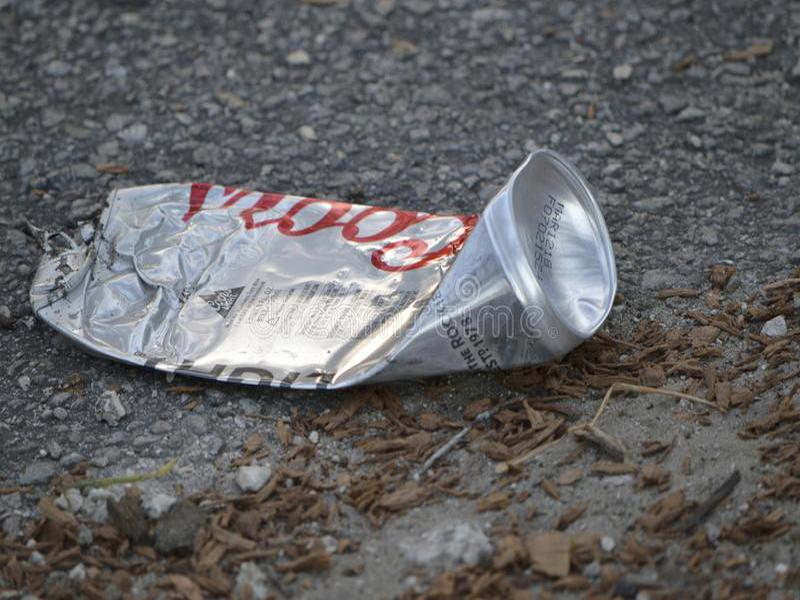can: (26, 150, 628, 399)
